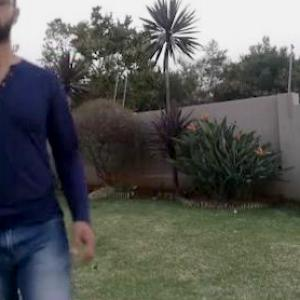follow: (1, 0, 82, 299)
